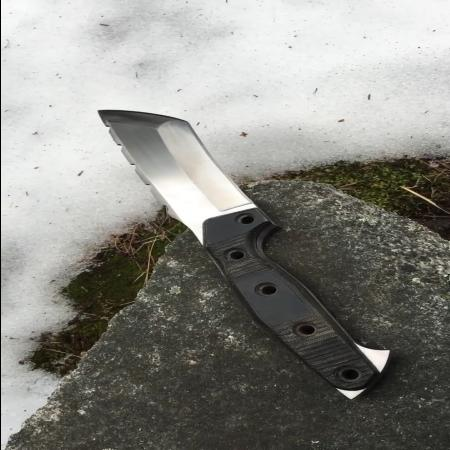long weapon: (83, 103, 285, 264)
